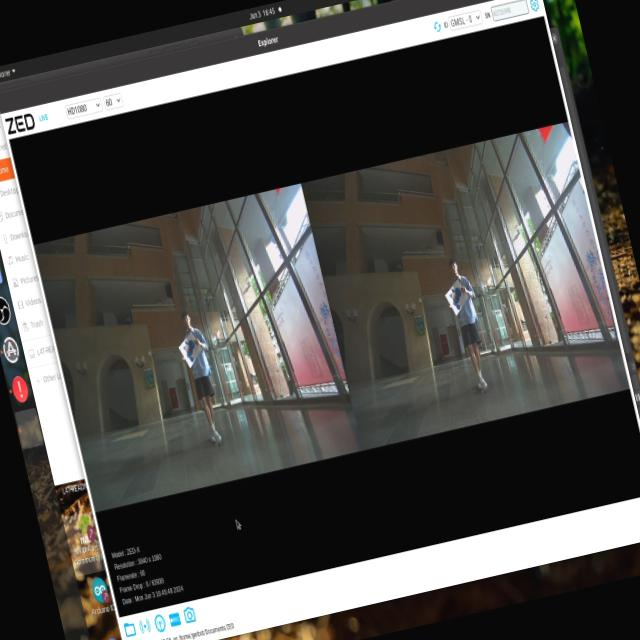blue: (174, 326, 198, 364), (442, 290, 468, 315)
